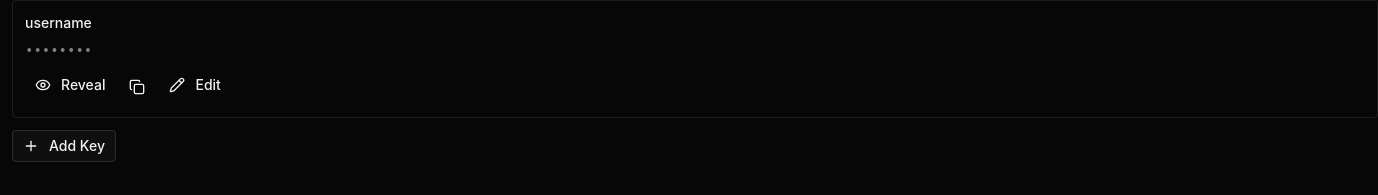
SecretDataViewer › clicking Reveal shows the value in a read-only monospace block
This screenshot has width=1378, height=195.
Click the button "Reveal": (70, 85) left=25, top=69, right=116, bottom=101
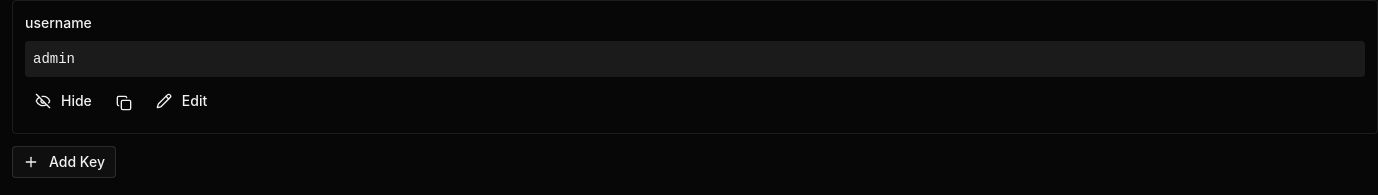
Expected: the text "admin" is shown, left=25, top=41, right=1365, bottom=77
